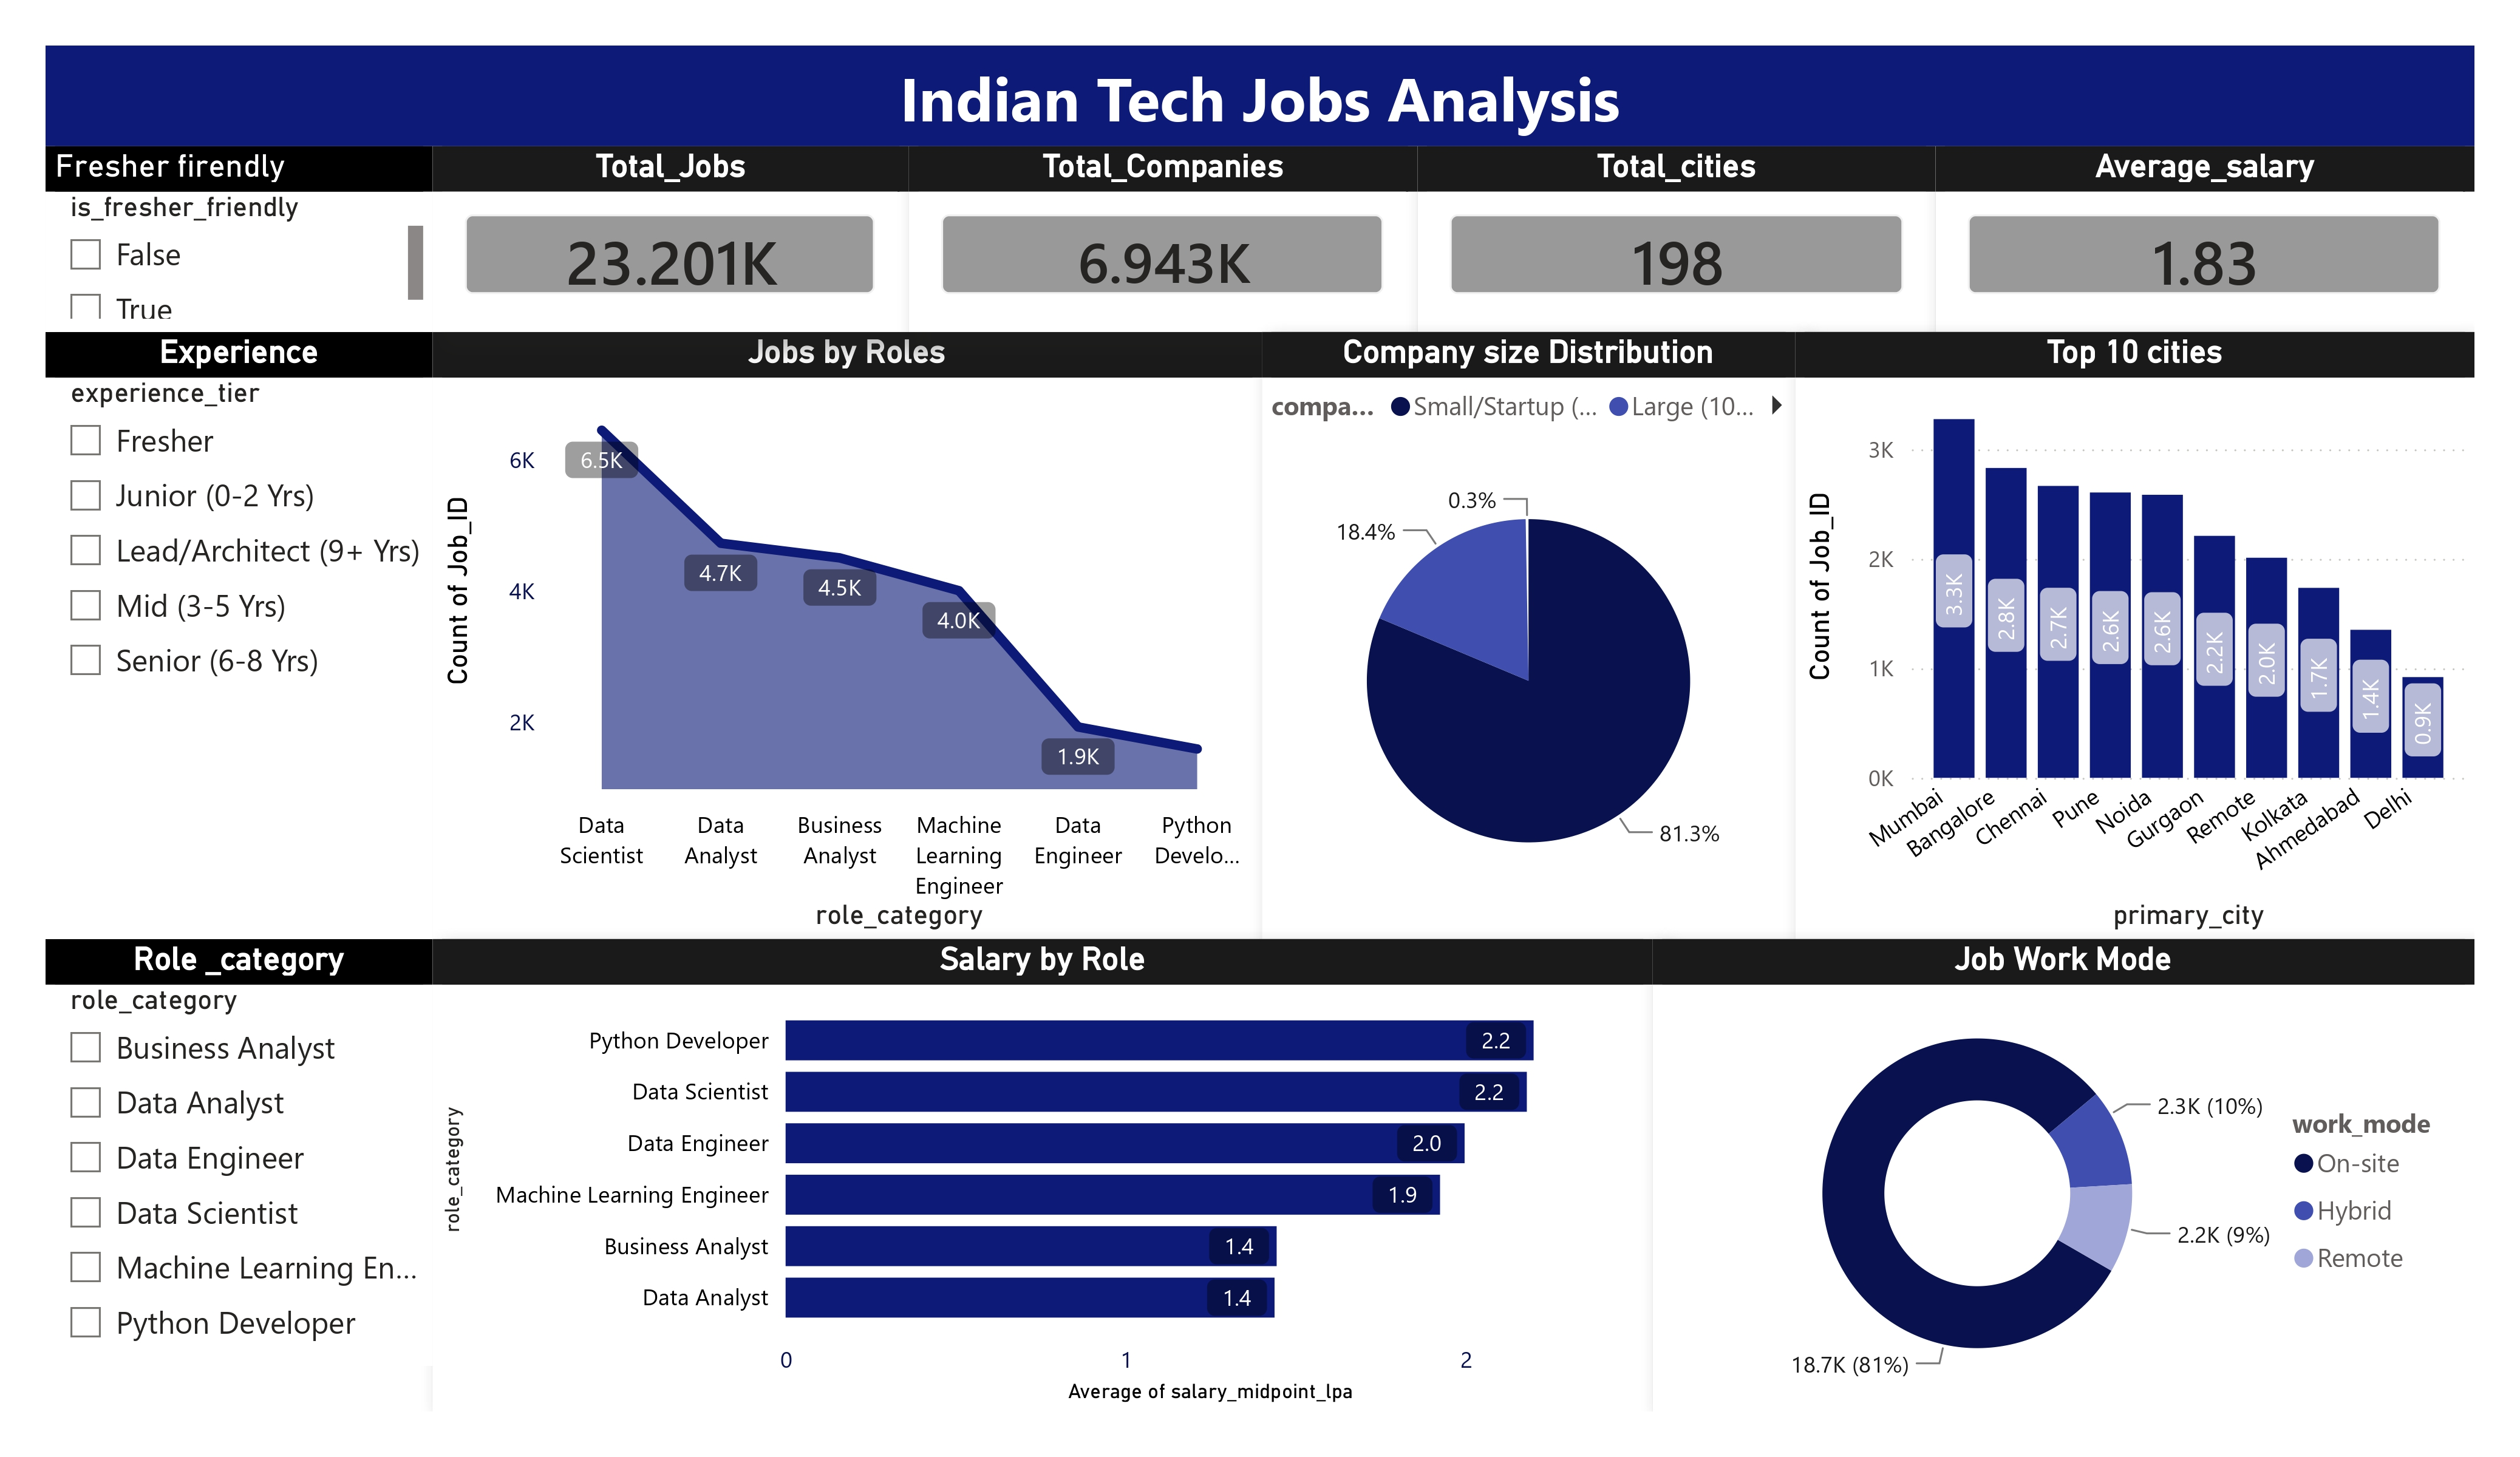

The page's visual inventory and layout, read from the dashboard file:
{"tool":"powerbi","page":{"name":"Page 1","canvas":[1280,720],"ordinal":0},"visuals":[{"type":"stackedAreaChart","title":"Jobs by Roles","fields":{"Category":["indian_tech_jobs_2026.role_category"],"Y":["CountNonNull(indian_tech_jobs_2026.Job_ID)"]},"box":[204.5,151.2,436.3,319.7],"z":1},{"type":"cardVisual","title":"Total_Jobs","fields":{"Data":["CountNonNull(indian_tech_jobs_2026.Job_ID)"]},"box":[204.5,53.3,250.6,97.9],"z":2},{"type":"cardVisual","title":"Total_Companies","fields":{"Data":["Count(indian_tech_jobs_2026.company_name)"]},"box":[455,53.3,267.8,97.9],"z":3},{"type":"cardVisual","title":"Total_cities","fields":{"Data":["Count(indian_tech_jobs_2026.primary_city)"]},"box":[722.9,53.3,273.6,97.9],"z":4},{"type":"cardVisual","title":"Average_salary","fields":{"Data":["Avg(indian_tech_jobs_2026.salary_midpoint_lpa)"]},"box":[996.5,53.3,283.7,97.9],"z":5},{"type":"pieChart","title":"Company size  Distribution","fields":{"Category":["indian_tech_jobs_2026.company_size_bucket"],"Y":["CountNonNull(indian_tech_jobs_2026.Job_ID)"]},"box":[640.8,151.2,280.8,319.7],"z":6},{"type":"lineStackedColumnComboChart","title":"Top 10 cities","fields":{"Category":["indian_tech_jobs_2026.primary_city"],"Y":["CountNonNull(indian_tech_jobs_2026.Job_ID)"]},"box":[921.6,151.2,358.6,319.7],"z":7},{"type":"clusteredBarChart","title":"Salary by Role","fields":{"Category":["indian_tech_jobs_2026.role_category"],"Y":["Avg(indian_tech_jobs_2026.salary_midpoint_lpa)"]},"box":[204.5,470.9,642.2,249.1],"z":8},{"type":"donutChart","title":"Job Work Mode","fields":{"Category":["indian_tech_jobs_2026.work_mode"],"Y":["CountNonNull(indian_tech_jobs_2026.Job_ID)"]},"box":[846.7,470.9,433.4,249.1],"z":9},{"type":"slicer","title":"Role _category","fields":{"Values":["indian_tech_jobs_2026.role_category"]},"box":[0,470.9,204.5,224.6],"z":10},{"type":"slicer","title":"Experience","fields":{"Values":["indian_tech_jobs_2026.experience_tier"]},"box":[0,151.2,204.5,319.7],"z":11},{"type":"slicer","title":"Fresher firendly","fields":{"Values":["indian_tech_jobs_2026.is_fresher_friendly"]},"box":[0,53.3,204.5,97.9],"z":12},{"type":"textbox","box":[0,0,1280.2,53.3],"z":13}]}

Visuals, with their boxes on the page's 1280x720 design canvas (x1, y1, x2, y2). These are canvas units, not pixel positions in the 2520x1457 screenshot, which may show the page scaled, cropped or inside an application window:
"Jobs by Roles" stackedAreaChart: 204:151:641:471
"Total_Jobs" cardVisual: 204:53:455:151
"Total_Companies" cardVisual: 455:53:723:151
"Total_cities" cardVisual: 723:53:996:151
"Average_salary" cardVisual: 996:53:1280:151
"Company size  Distribution" pieChart: 641:151:922:471
"Top 10 cities" lineStackedColumnComboChart: 922:151:1280:471
"Salary by Role" clusteredBarChart: 204:471:847:720
"Job Work Mode" donutChart: 847:471:1280:720
"Role _category" slicer: 0:471:204:696
"Experience" slicer: 0:151:204:471
"Fresher firendly" slicer: 0:53:204:151
textbox: 0:0:1280:53
